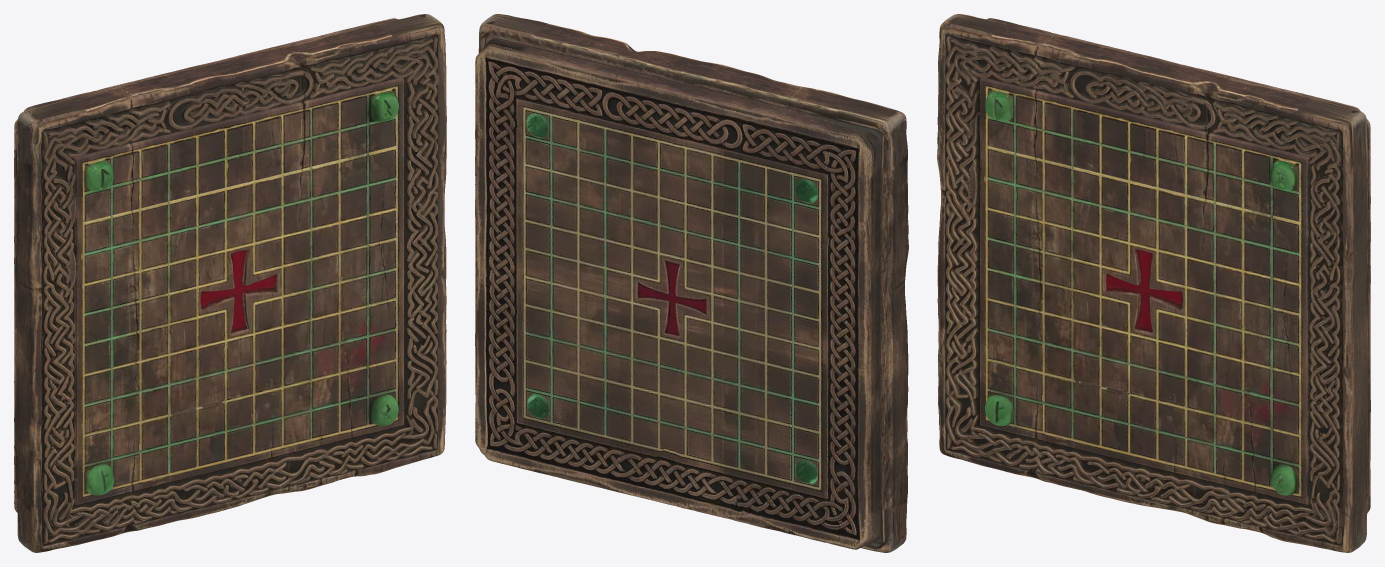
Rendered from board.glb.
3 renders of one model, left to right at view 1: azimuth 30°, elevation 25°; view 2: azimuth 150°, elevation 25°; view 3: azimuth 330°, elevation 25°, orthographic.
Bounding box in the file's own units: 1.9 × 1.9 × 0.2848.
1 material, 1 textured.
